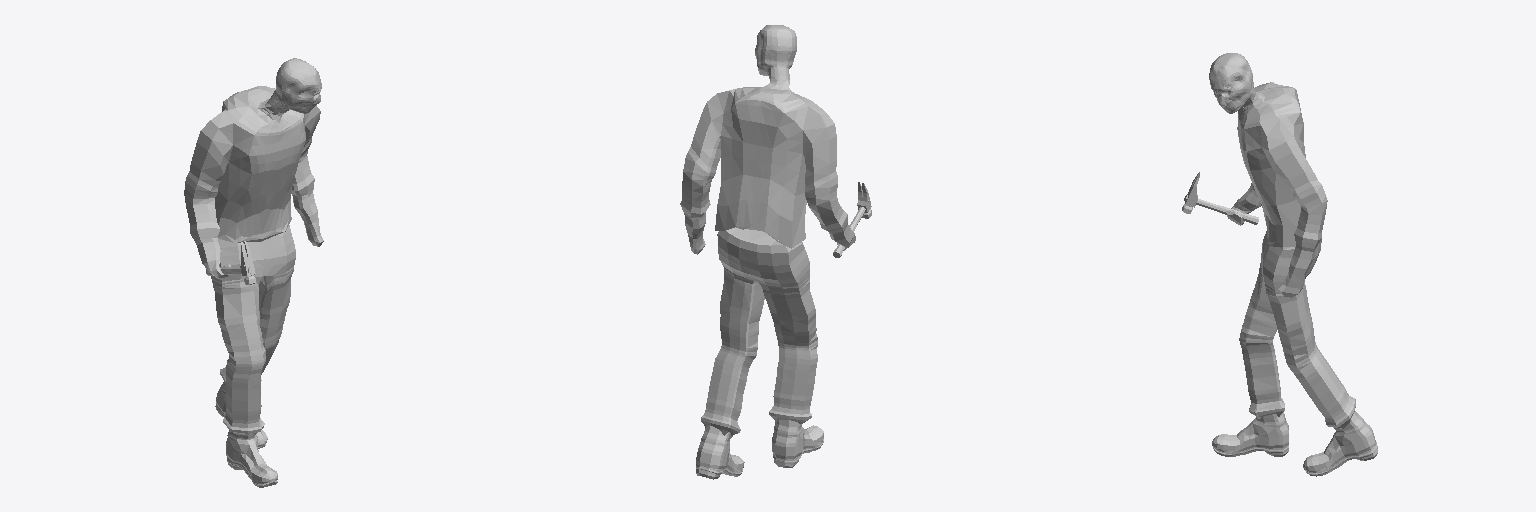
File: Murderer_Idle93.obj
The picture shows the model from 3 angles: view 1: azimuth 30°, elevation 25°; view 2: azimuth 150°, elevation 25°; view 3: azimuth 270°, elevation 25°; orthographic projection.
Visible parts, largest first — view 1: Körper, Beine, Stiefel, Hammer; view 2: Körper, Beine, Stiefel, Hammer; view 3: Körper, Beine, Stiefel, Hammer.
Boxes of the visible parts, box(x1,y1,x2,y2) form: Körper: box(184, 58, 323, 279); Beine: box(211, 225, 295, 434); Stiefel: box(215, 381, 277, 487); Hammer: box(206, 241, 255, 284); Körper: box(680, 25, 855, 254); Beine: box(701, 227, 817, 437); Stiefel: box(696, 420, 823, 479); Hammer: box(833, 182, 871, 257); Körper: box(1209, 53, 1327, 297); Beine: box(1239, 231, 1355, 428); Stiefel: box(1212, 411, 1377, 476); Hammer: box(1182, 172, 1258, 224).
Bounding box in the file's own units: 0.3375 × 0.9585 × 0.4105.